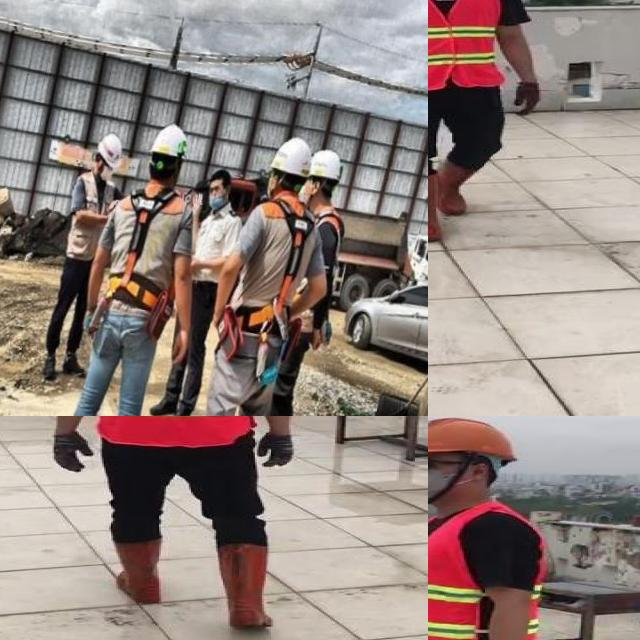Harness: (248, 199, 315, 338), (106, 190, 177, 312)
boots: (214, 542, 284, 628), (107, 535, 168, 605), (434, 162, 468, 214), (428, 174, 441, 242)
face_mask: (428, 454, 454, 501)
glasses: (428, 454, 447, 475)
hand_glove: (51, 433, 93, 471), (257, 434, 294, 469), (516, 83, 539, 118)
head_helmet: (428, 416, 517, 462)
person: (39, 416, 308, 637), (428, 416, 612, 640), (428, 0, 554, 251)
vest: (428, 508, 543, 640), (428, 0, 503, 88)
